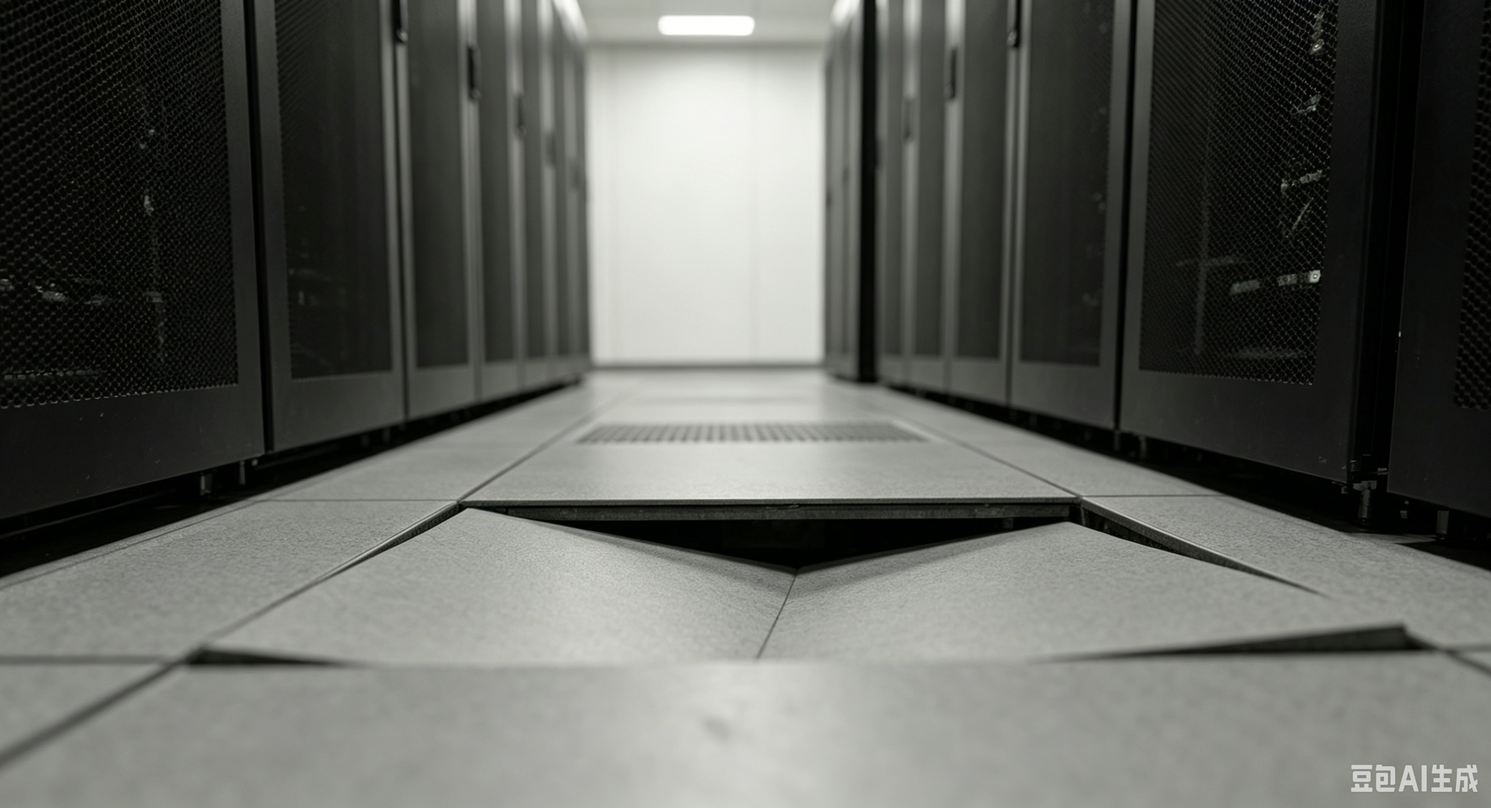floor_defect: (184, 492, 1431, 684)
